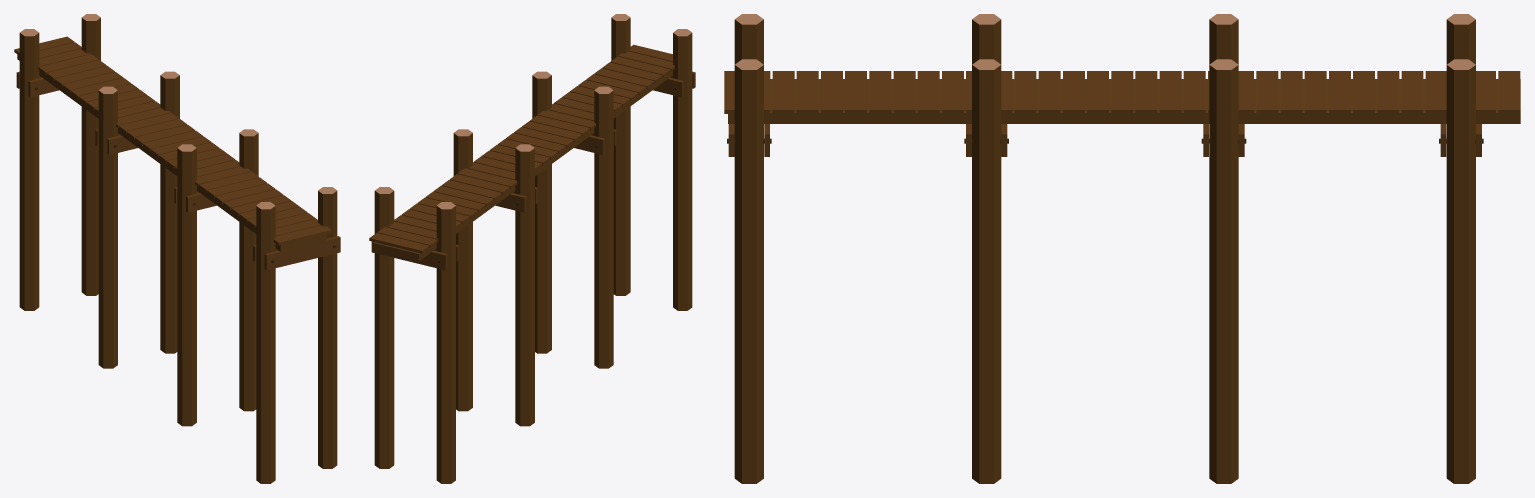
The model's file is Pier.fbx.
3 renders of one model, left to right at view 1: azimuth 30°, elevation 25°; view 2: azimuth 150°, elevation 25°; view 3: azimuth 270°, elevation 25°, orthographic. The views are drawn at different scales.
Visible parts, largest first — view 1: Cylinder.003, Cube.016, Cube.017, Cube.015; view 2: Cylinder.003, Cube.016, Cube.017, Cube.015; view 3: Cylinder.003, Cube.016, Cube.015, Cube.017.
Part boxes in pixels (left/top/right/bottom): Cylinder.003: left=19, top=14, right=337, bottom=483; Cube.016: left=14, top=36, right=331, bottom=245; Cube.017: left=16, top=71, right=340, bottom=270; Cube.015: left=17, top=54, right=326, bottom=251; Cylinder.003: left=374, top=14, right=692, bottom=483; Cube.016: left=369, top=44, right=674, bottom=253; Cube.017: left=371, top=71, right=695, bottom=270; Cube.015: left=372, top=70, right=672, bottom=261; Cylinder.003: left=734, top=14, right=1475, bottom=483; Cube.016: left=724, top=71, right=1520, bottom=113; Cube.015: left=728, top=79, right=1520, bottom=123; Cube.017: left=727, top=124, right=1483, bottom=156.
Bounding box in the file's own units: 1657 × 5696 × 9937.
